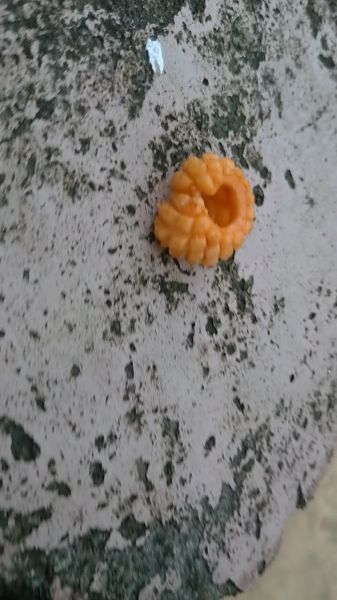eggs: (151, 147, 264, 267)
